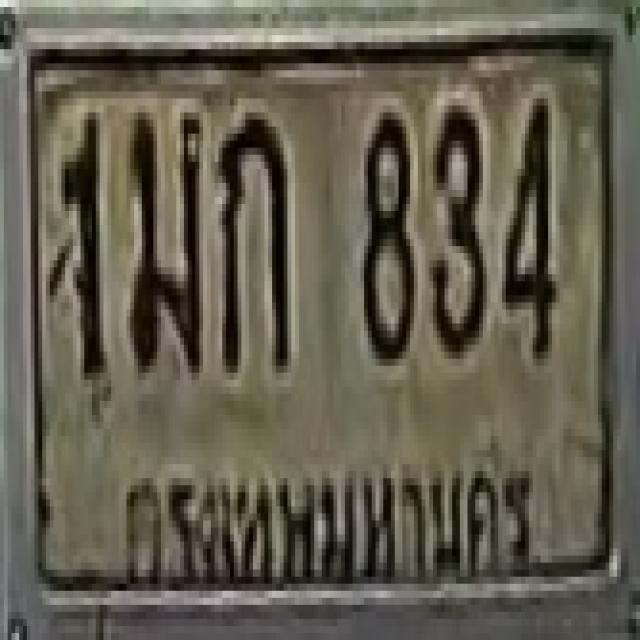-: (126, 106, 200, 366), (217, 106, 286, 366)
1: (58, 105, 100, 373)
3: (427, 98, 485, 352)
4: (502, 91, 552, 352)
8: (360, 102, 410, 355)
BKK: (110, 446, 548, 610)
